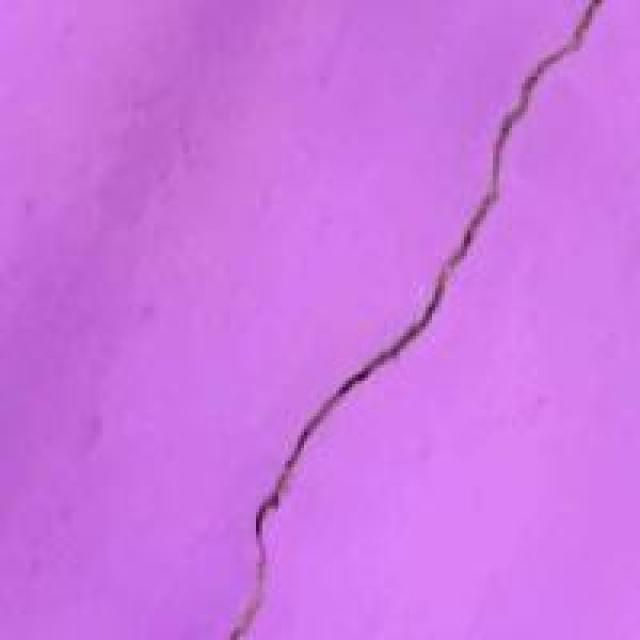Crack: (221, 3, 611, 637)
